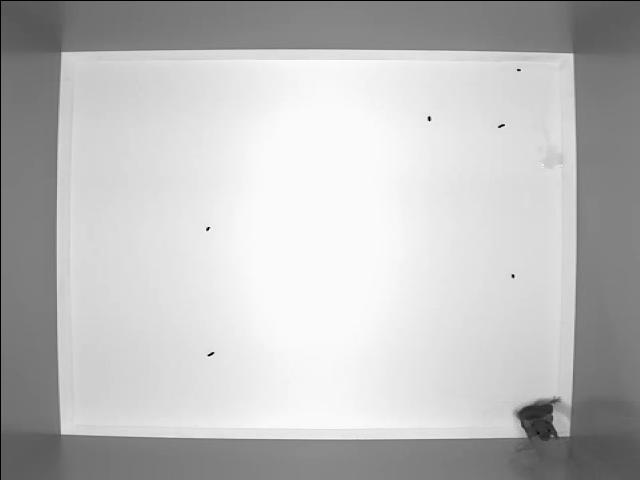Tikus: (508, 392, 570, 440)
